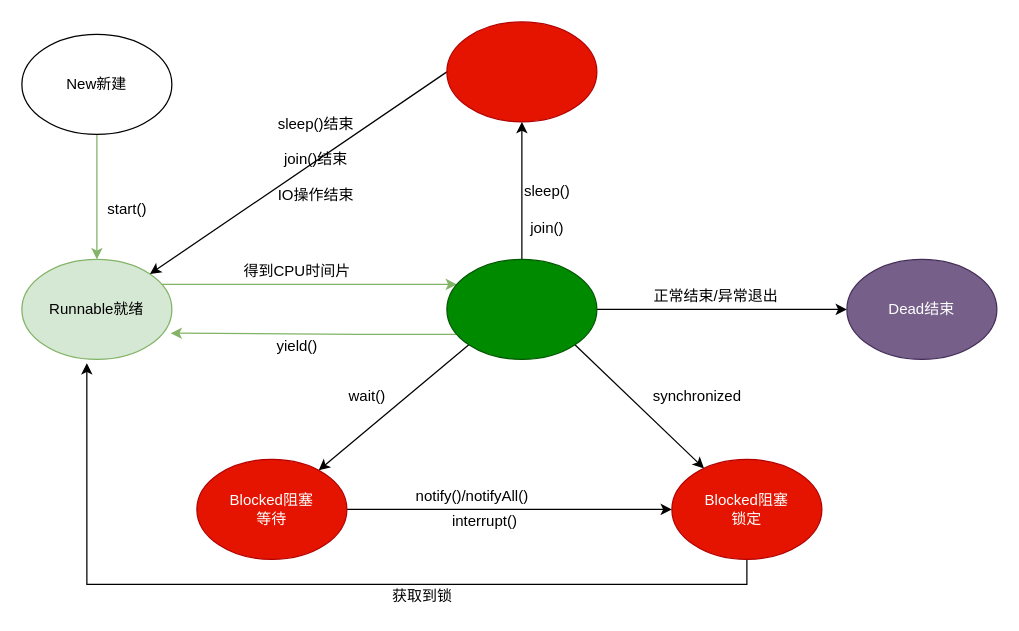
Some shapes in this 1019 by 631 pixel diagram are drawn without their labels. The centre of each missing label's shape, as x and y in pixels:
"Blocked阻塞" goes at (521,71).
"Running运行" goes at (521,308).
